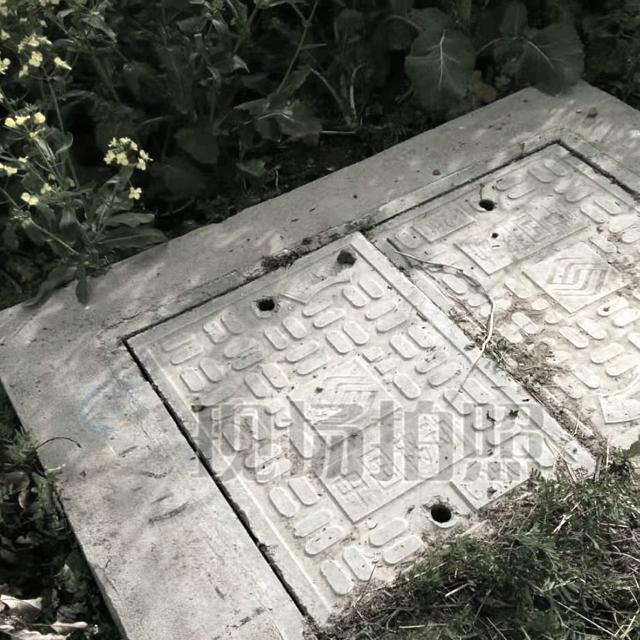uncovered: (102, 129, 640, 640)
